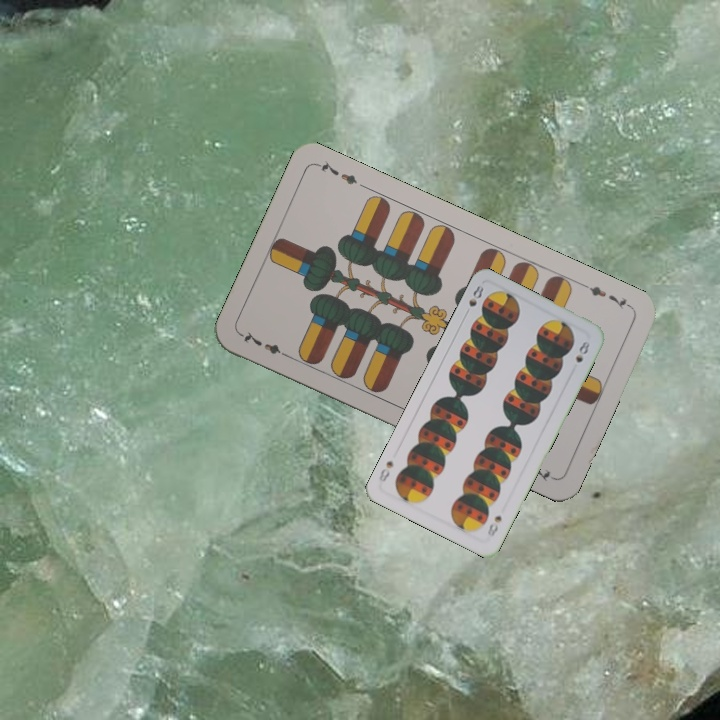E7: (237, 327, 293, 361), (578, 279, 634, 311)
S8: (460, 281, 486, 319), (483, 511, 504, 540)
